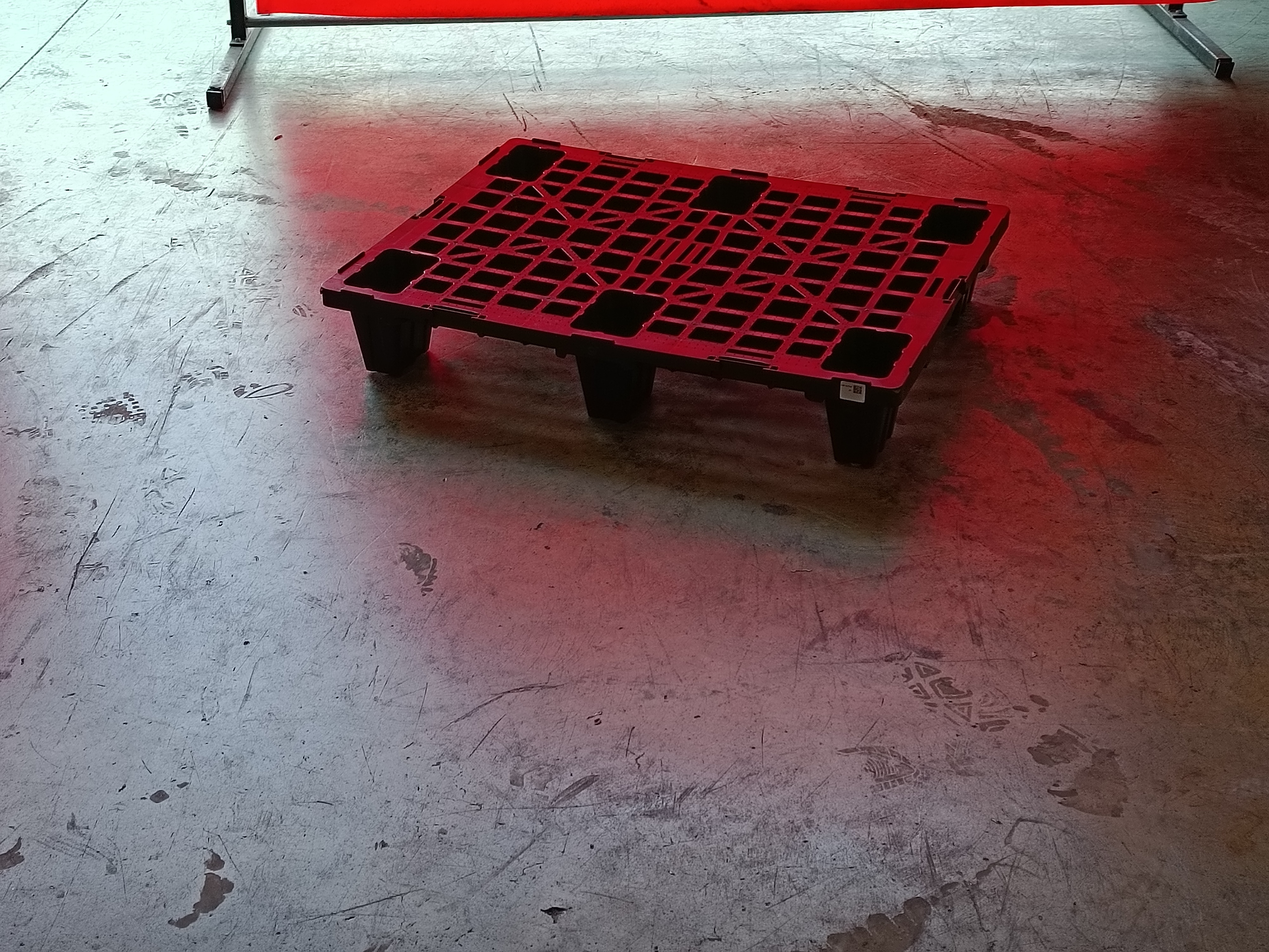block: (821, 386, 900, 472), (574, 364, 654, 435), (349, 302, 431, 370)
front: (324, 289, 912, 483)
hole pallet: (639, 369, 822, 467), (417, 316, 577, 410)
